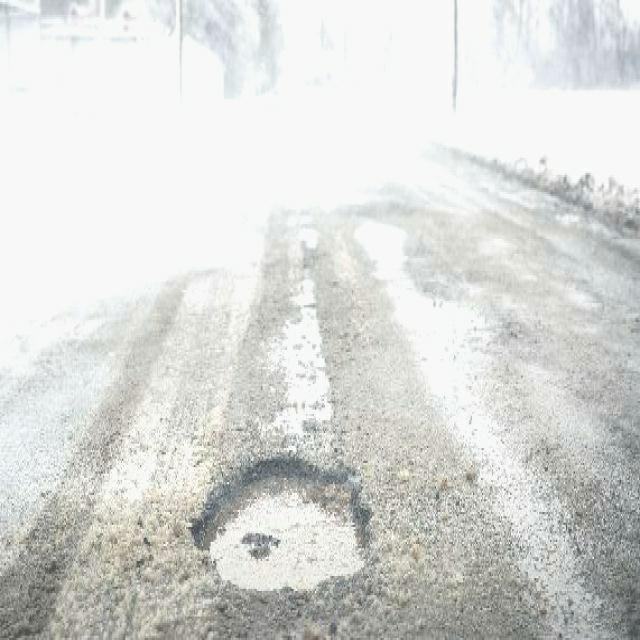Pothole: (185, 444, 377, 595)
